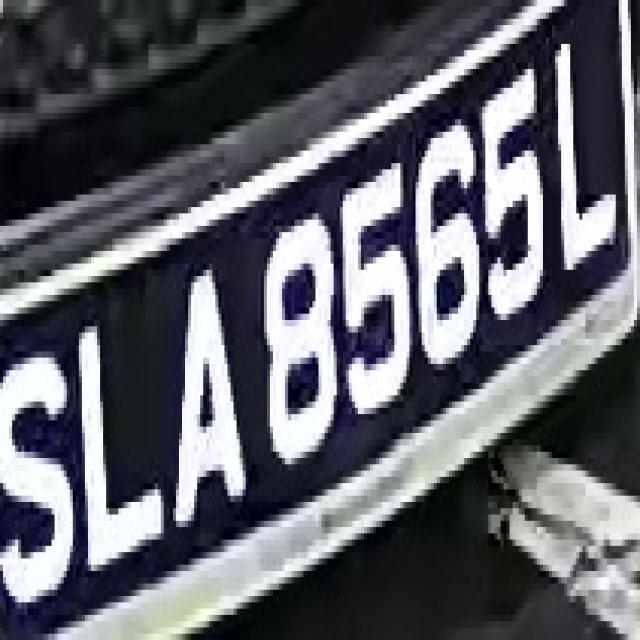5: (333, 150, 412, 420), (470, 69, 546, 333)
6: (398, 107, 488, 395)
8: (248, 194, 339, 477)
A: (167, 238, 246, 540)
L: (76, 295, 170, 571), (552, 25, 631, 295), (546, 31, 625, 295)
S: (0, 332, 73, 615)
